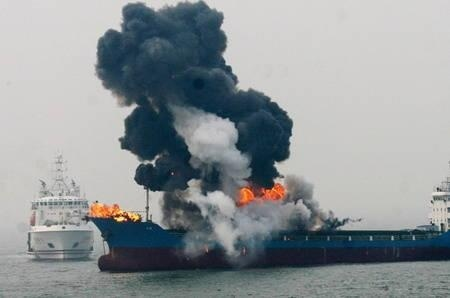fire: (86, 199, 139, 222), (237, 179, 286, 202)
